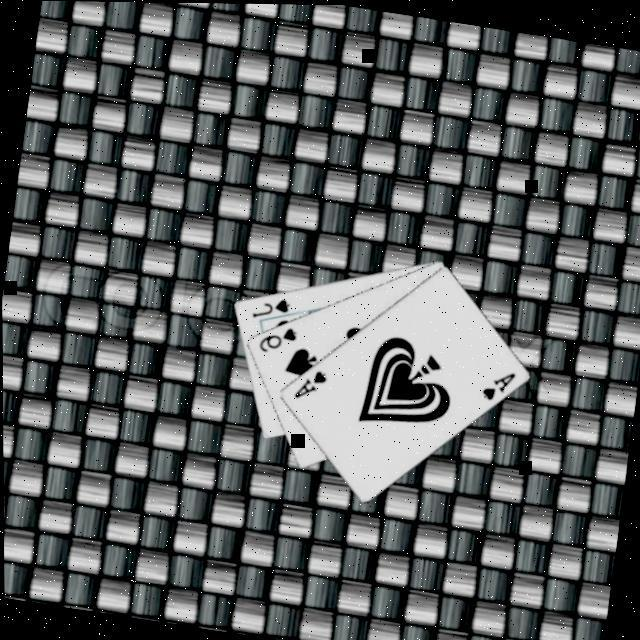6S: (252, 320, 298, 361)
AS: (288, 363, 330, 406), (476, 365, 518, 407)
JS: (246, 292, 291, 327)
